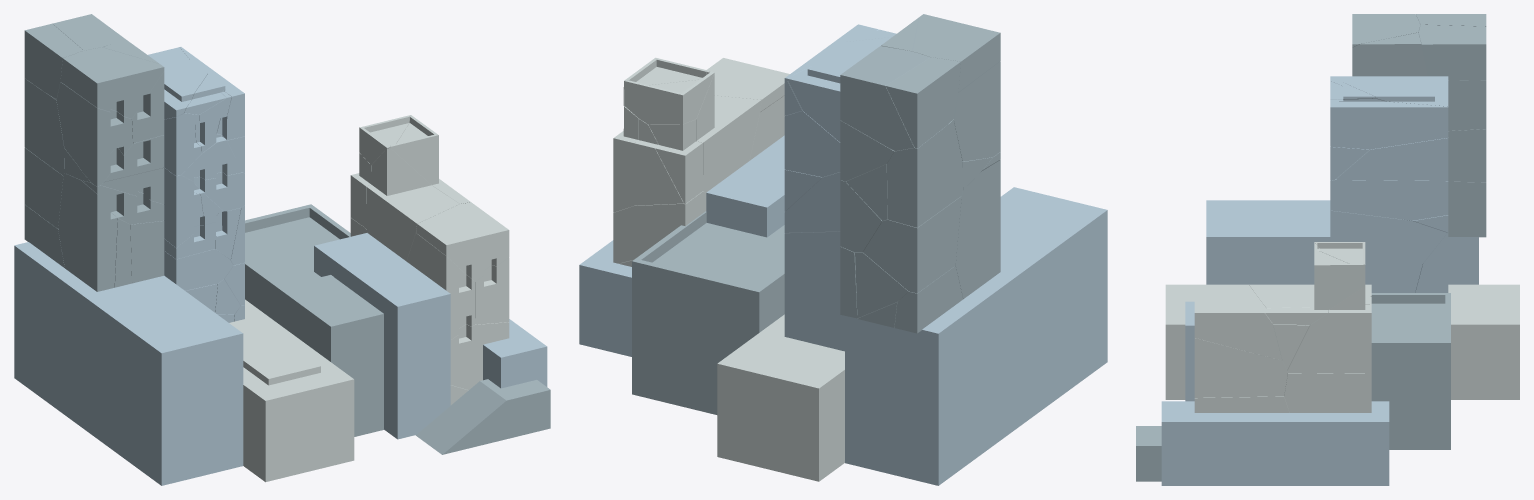
Rendered from city.glb.
3 views of the same model, side by side, from view 1: azimuth 30°, elevation 25°; view 2: azimuth 150°, elevation 25°; view 3: azimuth 270°, elevation 25° (orthographic). The views are drawn at different scales.
Parts seen in each view (by area): view 1: Cube.007, Cube.005, Cube.006, Cube.002, Cube.008, Cube.003_cell.008, Cube.010_cell.015, Cube.010_cell.014, Cube.010_cell.001, Cube.003_cell.014, Cube.001, Cube.003_cell.012 (+29 smaller); view 2: Cube.007, Cube.005, Cube.006, Cube.009_cell.003, Cube.010_cell.019, Cube.010_cell.006, Cube.010_cell.004, Cube.002, Cube.001, Cube.010_cell.015, Cube.003_cell.008, Cube.010_cell.009 (+23 smaller); view 3: Cube.001, Cube.005, Cube.007, Cube.006, Cube.009_cell.011, Cube.003_cell.013, Cube.003_cell.014, Cube.003_cell.005, Cube.009_cell.019, Cube.009_cell.014, Cube.009_cell.005, Cube.010_cell.004 (+19 smaller).
Part boxes in pixels (left/top/right/bottom): Cube.007: left=14, top=242, right=243, bottom=485; Cube.005: left=245, top=204, right=383, bottom=436; Cube.006: left=229, top=299, right=354, bottom=482; Cube.002: left=314, top=233, right=450, bottom=439; Cube.008: left=416, top=379, right=550, bottom=454; Cube.003_cell.008: left=366, top=148, right=459, bottom=261; Cube.010_cell.015: left=58, top=173, right=117, bottom=291; Cube.010_cell.014: left=60, top=47, right=164, bottom=118; Cube.010_cell.001: left=56, top=82, right=132, bottom=186; Cube.003_cell.014: left=416, top=202, right=509, bottom=281; Cube.001: left=483, top=319, right=547, bottom=388; Cube.003_cell.012: left=406, top=233, right=474, bottom=339; Cube.007: left=845, top=187, right=1107, bottom=485; Cube.005: left=632, top=211, right=784, bottom=414; Cube.006: left=717, top=314, right=844, bottom=481; Cube.009_cell.003: left=784, top=231, right=844, bottom=351; Cube.010_cell.019: left=887, top=120, right=962, bottom=227; Cube.010_cell.006: left=863, top=196, right=961, bottom=293; Cube.010_cell.004: left=840, top=46, right=953, bottom=150; Cube.002: left=706, top=135, right=784, bottom=237; Cube.001: left=579, top=240, right=631, bottom=356; Cube.010_cell.015: left=955, top=160, right=1000, bottom=298; Cube.003_cell.008: left=696, top=73, right=761, bottom=192; Cube.010_cell.009: left=886, top=57, right=960, bottom=148; Cube.001: left=1161, top=401, right=1389, bottom=485; Cube.005: left=1371, top=293, right=1450, bottom=449; Cube.007: left=1206, top=200, right=1478, bottom=284; Cube.006: left=1165, top=284, right=1519, bottom=399; Cube.009_cell.011: left=1330, top=98, right=1448, bottom=149; Cube.003_cell.013: left=1287, top=286, right=1371, bottom=373; Cube.003_cell.014: left=1194, top=284, right=1282, bottom=360; Cube.003_cell.005: left=1194, top=338, right=1287, bottom=397; Cube.009_cell.019: left=1330, top=179, right=1448, bottom=220; Cube.009_cell.014: left=1330, top=210, right=1446, bottom=263; Cube.009_cell.005: left=1335, top=138, right=1448, bottom=180; Cube.010_cell.004: left=1418, top=24, right=1486, bottom=80.
Size of what is drawn, in the model's own units: 3.65 by 3.29 by 3.63.
